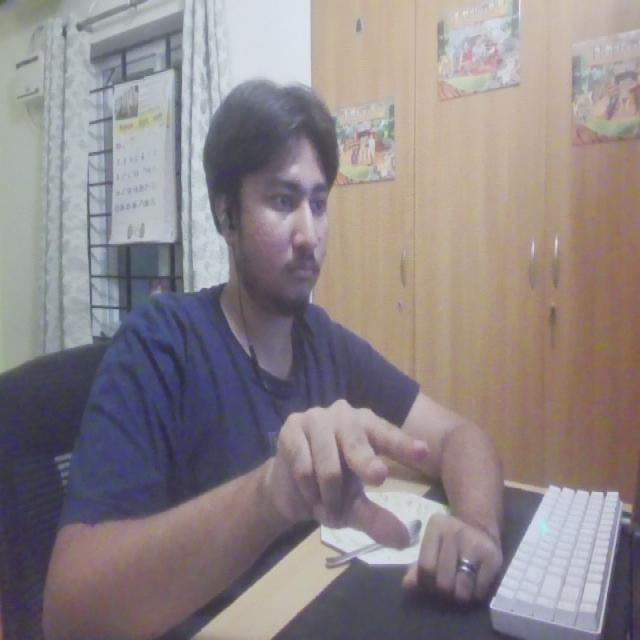no: (271, 391, 434, 562)
